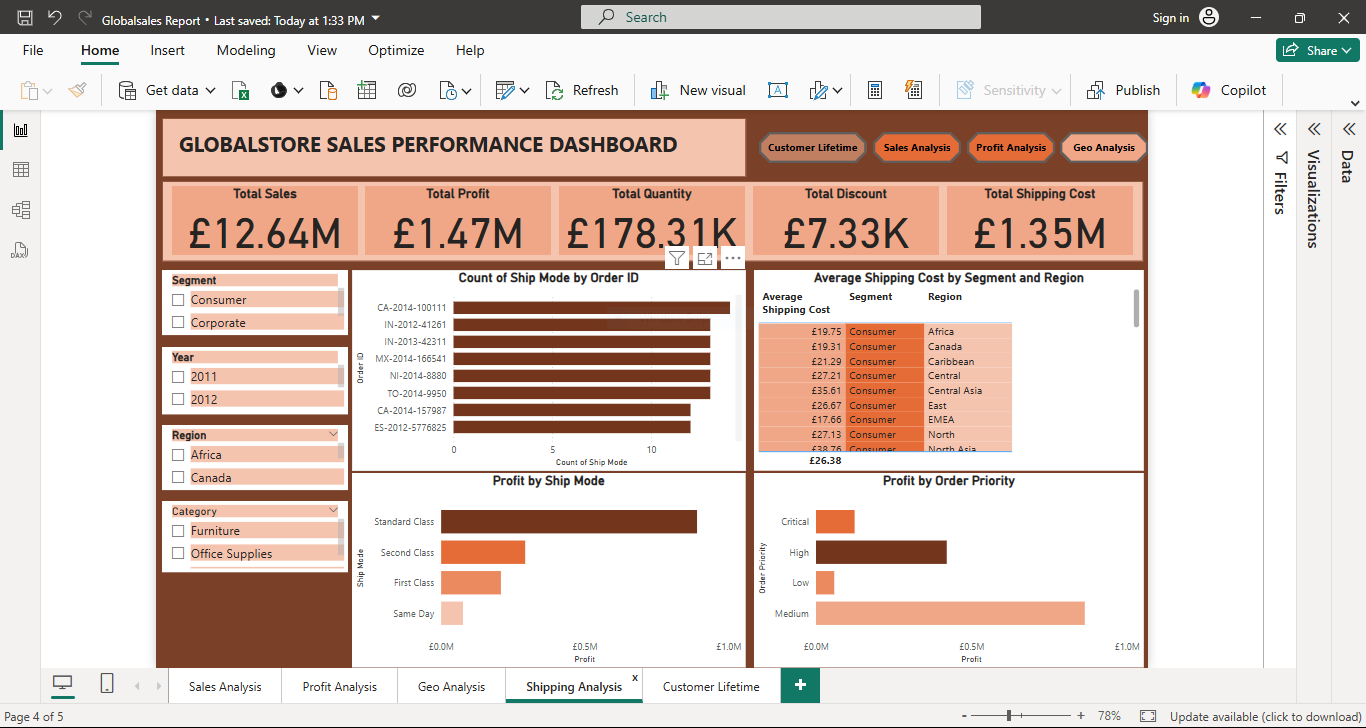

The page's visual inventory and layout, read from the dashboard file:
{"tool":"powerbi","page":{"name":"Shipping Analysis","canvas":[1280,720],"ordinal":3},"visuals":[{"type":"shape","box":[7.5,10,753.8,76.2],"z":0},{"type":"textbox","box":[25,21.2,706.2,53.8],"z":1000},{"type":"shape","box":[7.5,91.2,1266.2,103.8],"z":2000},{"type":"card","title":"Total Sales","fields":{"Values":["Sum(Globalstore-Data.Sales)"]},"box":[20,98.5,240,88.8],"z":3000},{"type":"card","title":"Total Profit","fields":{"Values":["Sum(Globalstore-Data.Profit)"]},"box":[270.3,98.5,240,88.8],"z":4000},{"type":"card","title":"Total Discount","fields":{"Values":["Sum(Globalstore-Data.Discount)"]},"box":[770.9,98.5,240,88.8],"z":5000},{"type":"card","title":"Total Shipping Cost","fields":{"Values":["Sum(Globalstore-Data.Shipping Cost)"]},"box":[1021.2,98.5,240,88.8],"z":6000},{"type":"card","title":"Total Quantity","fields":{"Values":["Sum(Globalstore-Data.Quantity)"]},"box":[520.6,98.5,240,88.8],"z":7000},{"type":"slicer","fields":{"Values":["Globalstore-Data.Segment"]},"box":[7.8,206.8,240,84.4],"z":8000},{"type":"slicer","fields":{"Values":["Globalstore-Data.Order Date.Variation.Date Hierarchy.Year"]},"box":[7.8,305.3,240,86.7],"z":9000},{"type":"slicer","fields":{"Values":["Globalstore-Data.Region"]},"box":[7.8,406,240,84.4],"z":10000},{"type":"slicer","fields":{"Values":["Globalstore-Data.Category"]},"box":[7.8,504.4,240,92.2],"z":11000},{"type":"barChart","fields":{"Y":["CountNonNull(Globalstore-Data.Ship Mode)"],"Category":["Globalstore-Data.Order ID"]},"box":[253.3,206.7,507.8,258.9],"z":12000},{"type":"actionButton","box":[777.5,28.8,138.8,40],"z":13000},{"type":"actionButton","box":[925,28.8,113.8,40],"z":14000},{"type":"actionButton","box":[1046.2,28.8,113.8,40],"z":15000},{"type":"actionButton","box":[1166.2,28.8,113.8,40],"z":16000},{"type":"barChart","fields":{"Y":["Sum(Globalstore-Data.Profit)"],"Category":["Globalstore-Data.Ship Mode"]},"box":[253.3,468.9,507.8,251.1],"z":17000},{"type":"barChart","fields":{"Category":["Globalstore-Data.Ship Date.Variation.Date Hierarchy.Day","Globalstore-Data.Order Priority"],"Y":["Sum(Globalstore-Data.Profit)"]},"box":[771.1,468.9,503.3,251.1],"z":18000},{"type":"tableEx","title":"Average Shipping Cost by Segment and Region","fields":{"Values":["Globalstore-Data.Shipping Cost","Globalstore-Data.Segment","Globalstore-Data.Region"]},"box":[771.1,206.7,503.3,258.9],"z":19000}]}

Visuals, with their boxes on the page's 1280x720 design canvas (x1, y1, x2, y2). These are canvas units, not pixel positions in the 1366x728 screenshot, which may show the page scaled, cropped or inside an application window:
shape: crop(8, 10, 761, 86)
textbox: crop(25, 21, 731, 75)
shape: crop(8, 91, 1274, 195)
"Total Sales" card: crop(20, 98, 260, 187)
"Total Profit" card: crop(270, 98, 510, 187)
"Total Discount" card: crop(771, 98, 1011, 187)
"Total Shipping Cost" card: crop(1021, 98, 1261, 187)
"Total Quantity" card: crop(521, 98, 761, 187)
slicer - Globalstore-Data.Segment: crop(8, 207, 248, 291)
slicer - Globalstore-Data.Order Date.Variation.Date Hierarchy.Year: crop(8, 305, 248, 392)
slicer - Globalstore-Data.Region: crop(8, 406, 248, 490)
slicer - Globalstore-Data.Category: crop(8, 504, 248, 597)
barChart - CountNonNull(Globalstore-Data.Ship Mode) x Globalstore-Data.Order ID: crop(253, 207, 761, 466)
actionButton: crop(778, 29, 916, 69)
actionButton: crop(925, 29, 1039, 69)
actionButton: crop(1046, 29, 1160, 69)
actionButton: crop(1166, 29, 1280, 69)
barChart - Sum(Globalstore-Data.Profit) x Globalstore-Data.Ship Mode: crop(253, 469, 761, 720)
barChart - Globalstore-Data.Ship Date.Variation.Date Hierarchy.Day x Globalstore-Data.Order Priority: crop(771, 469, 1274, 720)
"Average Shipping Cost by Segment and Region" tableEx: crop(771, 207, 1274, 466)
